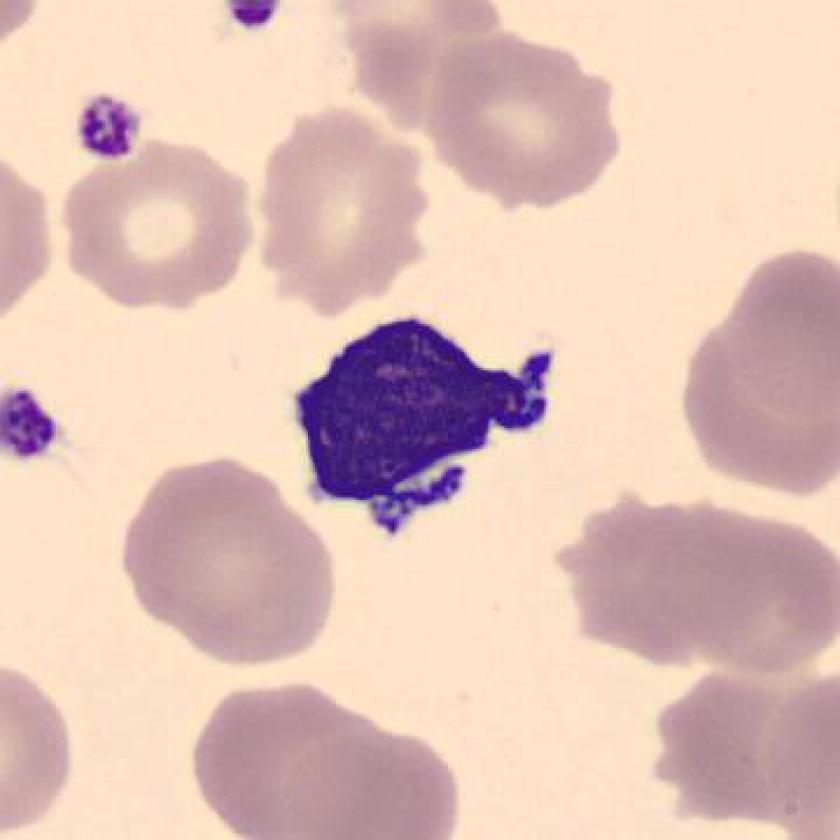lymphocyte: (276, 293, 561, 559)
